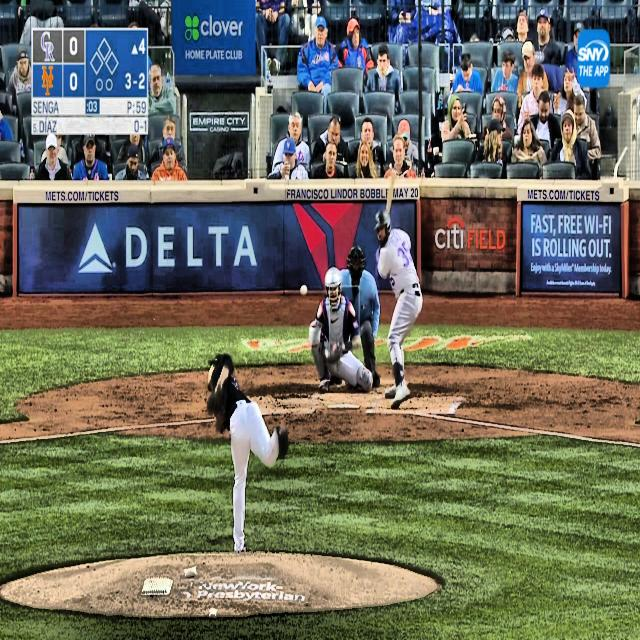baseball: (299, 284, 308, 297)
